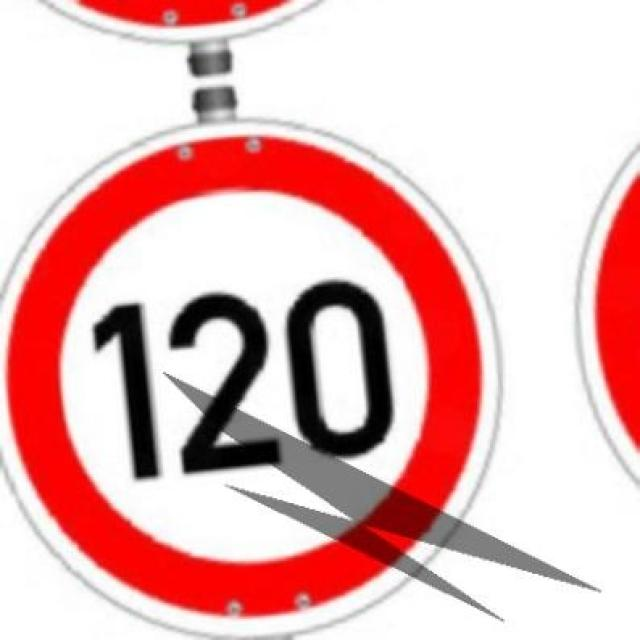forb_speed_over_120: (0, 103, 522, 640), (558, 41, 640, 597), (622, 633, 639, 640)
